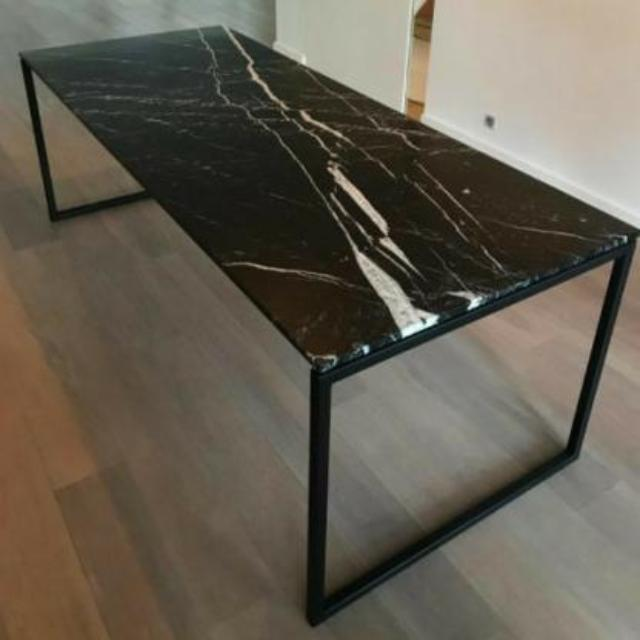table: (10, 32, 627, 632)
